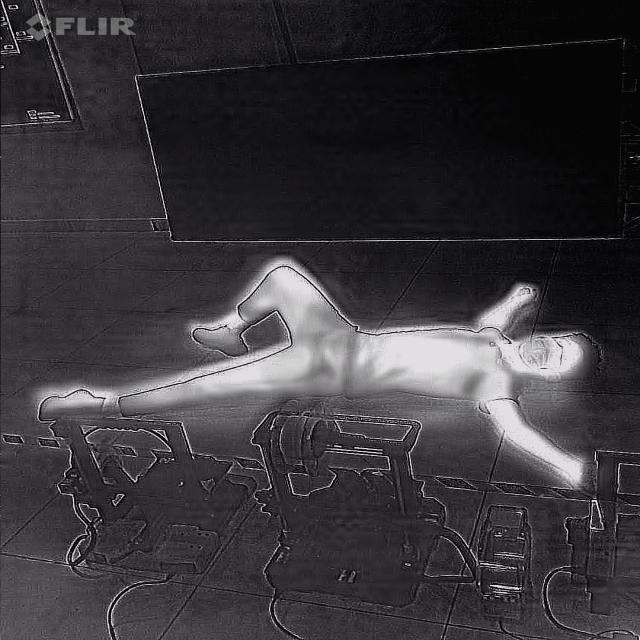Victim: (28, 257, 617, 504)
